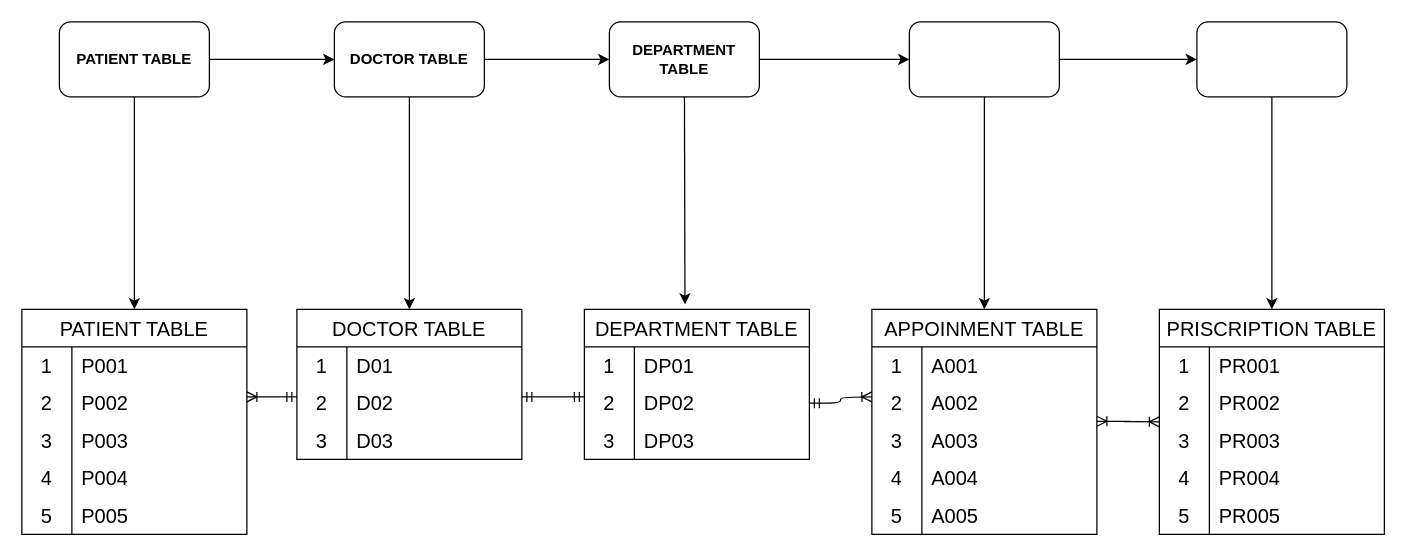
This 1406x556 diagram has some shape labels left out. Here are the shapes that lost their labels. From the top down, the centre of each, then its label:
At (x=983, y=59): "APPOINTMENT TABLE".
At (x=1271, y=59): "PRESCRIPTION TABLE".
